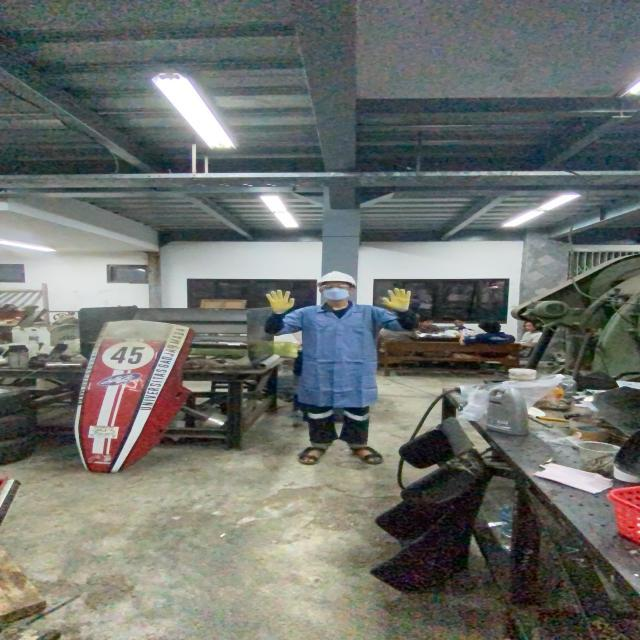glasses: (314, 282, 354, 290)
